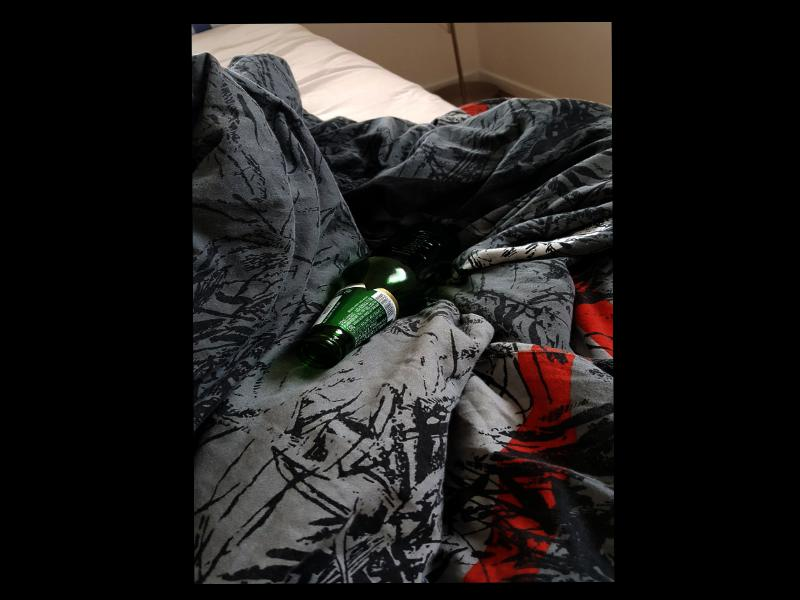Beer: (297, 222, 462, 369)
